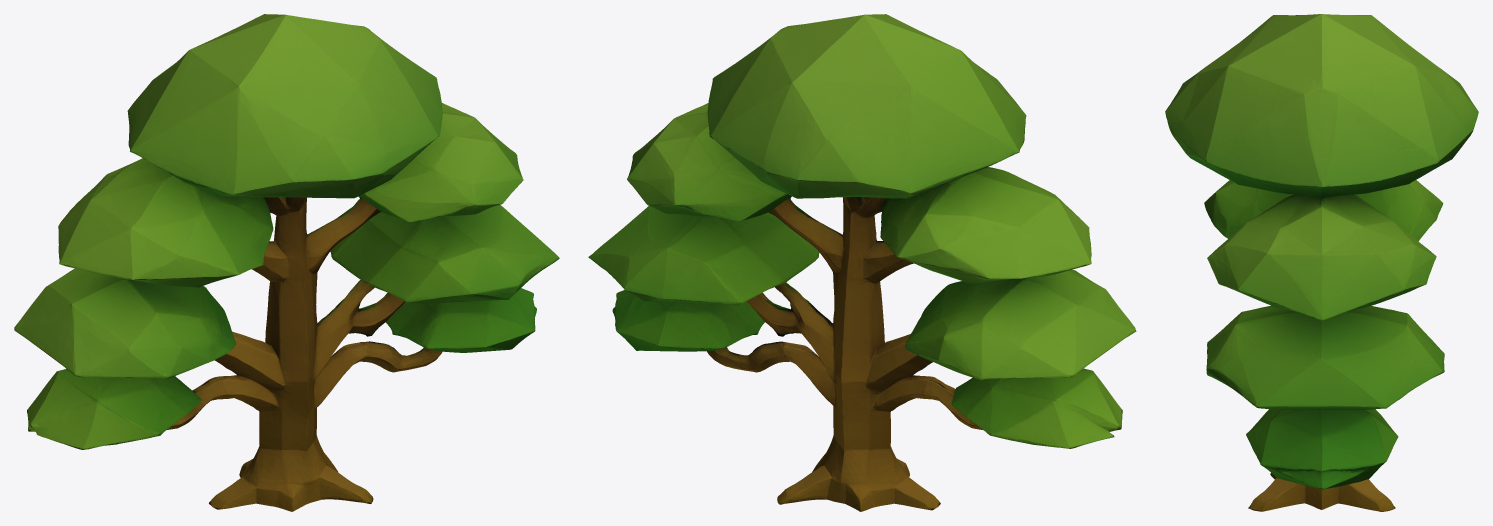
Rendered from tree.glb.
3 renders of one model, left to right at view 1: azimuth 30°, elevation 25°; view 2: azimuth 150°, elevation 25°; view 3: azimuth 270°, elevation 25°, orthographic.
Visible parts, largest first — view 1: world; view 2: world; view 3: world.
Boxes of the visible parts, x1,y1,x2,y2 form: world: (14, 14, 559, 511); world: (588, 14, 1136, 511); world: (1165, 14, 1478, 511).
Size of the model in its own units: 1 by 0.8971 by 0.5413.
Materials: 1 (1 with a texture image).
